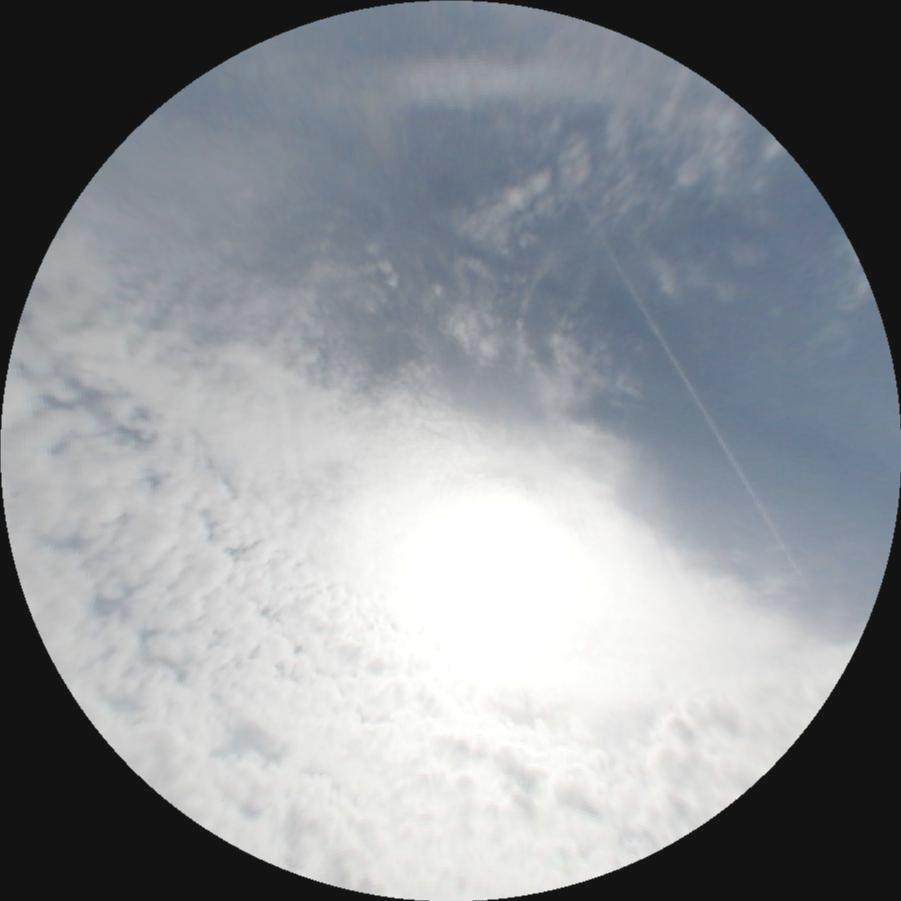contrail young: (574, 192, 815, 598)
sun: (423, 509, 548, 637)
